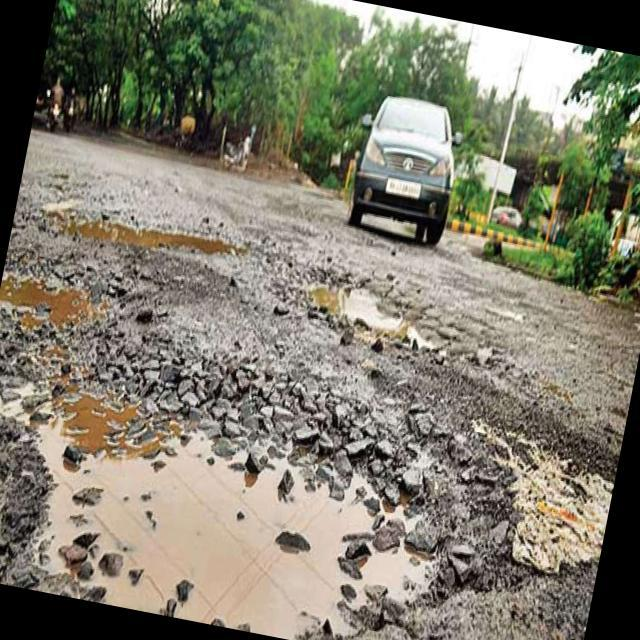Pothole: (0, 336, 523, 640), (294, 274, 480, 386), (0, 255, 145, 358), (56, 178, 240, 254)
